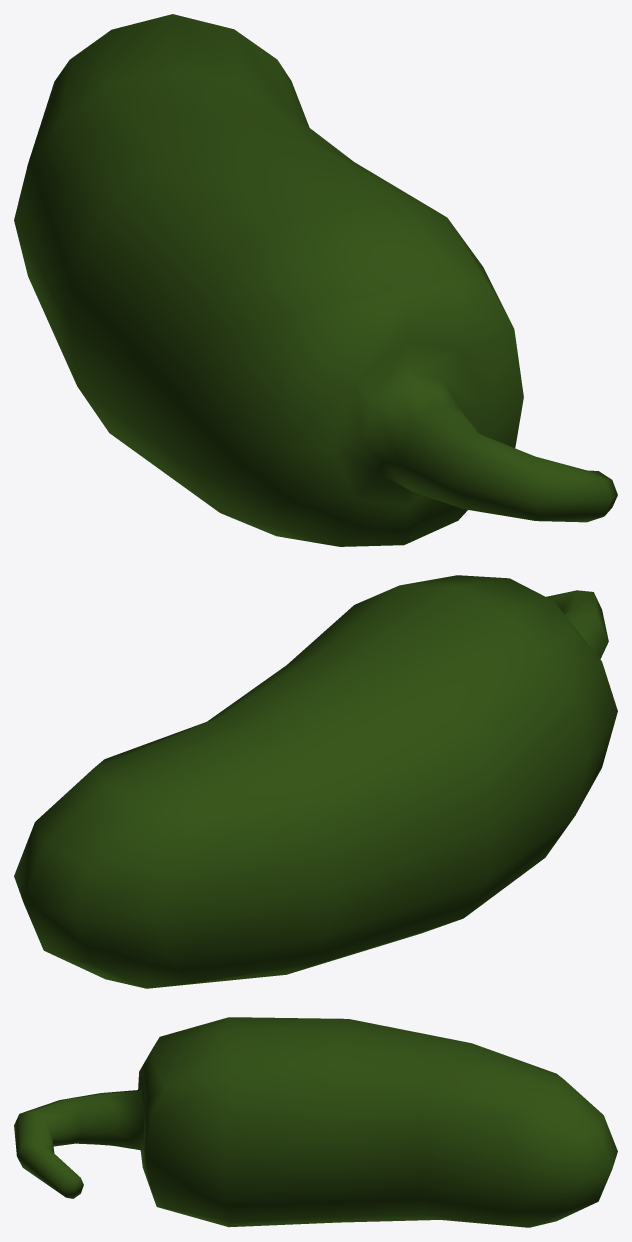
File: jalapeno.glb
The picture shows the model from 3 angles, top to bottom: view 1: azimuth 30°, elevation 25°; view 2: azimuth 150°, elevation 25°; view 3: azimuth 270°, elevation 25°; orthographic projection. The views are drawn at different scales.
Visible parts, largest first — view 1: Jalapeno; view 2: Jalapeno; view 3: Jalapeno.
Boxes of the visible parts, x1=… form: Jalapeno: x1=14, y1=14, x2=617, y2=546; Jalapeno: x1=14, y1=575, x2=617, y2=988; Jalapeno: x1=14, y1=1017, x2=617, y2=1227.
Bounding box in the file's own units: 0.0443 × 0.0372 × 0.1082.
Materials: 1 (1 with a texture image).
